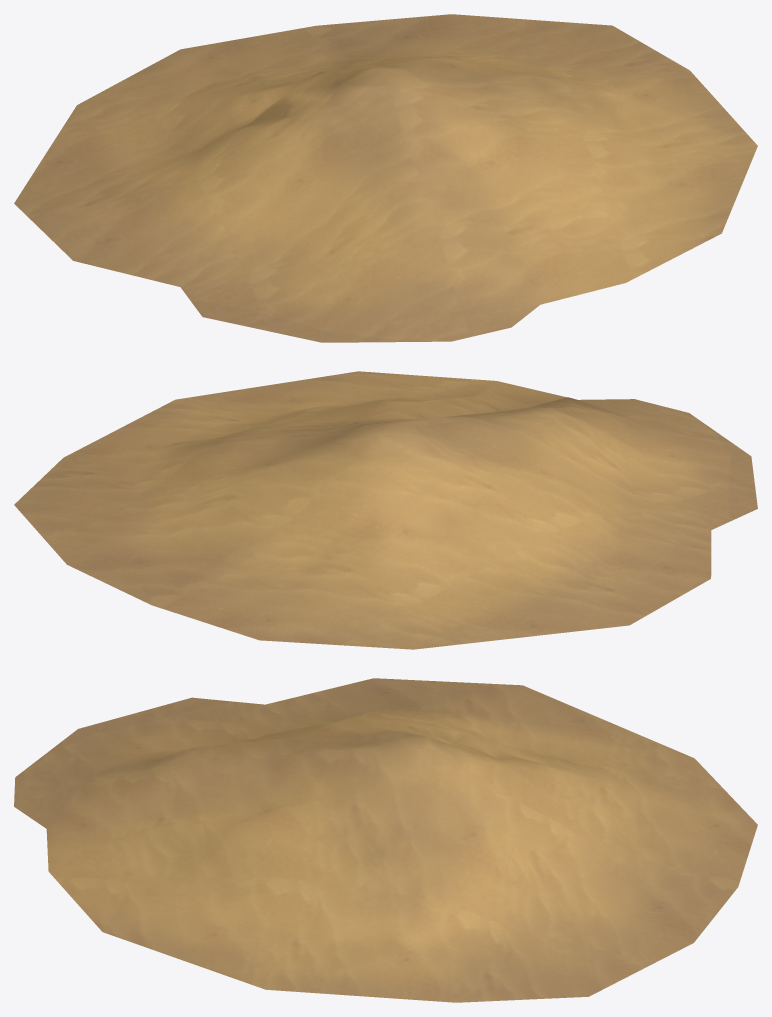
Rendered from Area_10_8.fbx.
3 renders of one model, top to bottom at view 1: azimuth 30°, elevation 25°; view 2: azimuth 150°, elevation 25°; view 3: azimuth 270°, elevation 25°, orthographic. The views are drawn at different scales.
Visible parts, largest first — view 1: Area_10_8; view 2: Area_10_8; view 3: Area_10_8.
Part boxes in pixels (x1=…): Area_10_8: x1=14, y1=14, x2=757, y2=342; Area_10_8: x1=14, y1=371, x2=757, y2=649; Area_10_8: x1=14, y1=678, x2=757, y2=1002.
Size of the model in its own units: 1701 by 226 by 1648.
Materials: 1 (1 with a texture image).
